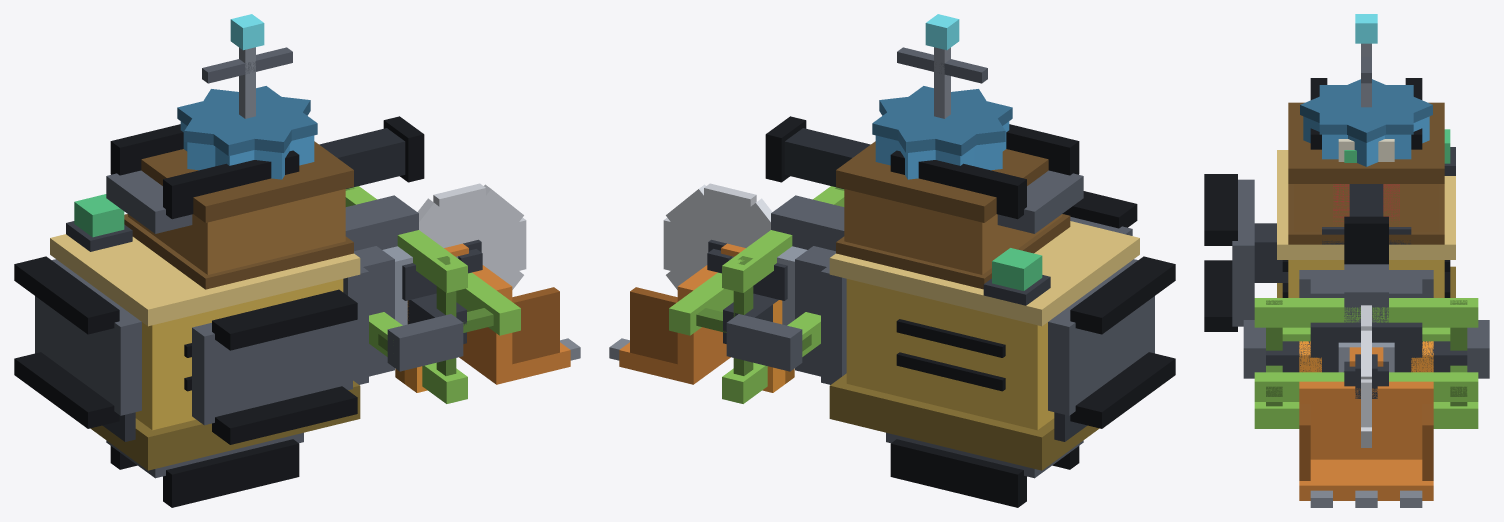
The model's file is worker.glb.
3 renders of one model, left to right at view 1: azimuth 30°, elevation 25°; view 2: azimuth 150°, elevation 25°; view 3: azimuth 270°, elevation 25°, orthographic. The views are drawn at different scales.
Parts seen in each view (by area): view 1: body.006, side.001, hold, sidex.001, map_drum, reaper_reel, above.001, scoop_bucket, saw_disc, below.001, aim_pitch_gun, grab (+3 smaller); view 2: body.006, hold, sidex.001, map_drum, reaper_reel, above.001, scoop_bucket, saw_disc, below.001, aim_pitch_gun, grab, reaper (+4 smaller); view 3: reaper_reel, scoop_bucket, hold, map_drum, side.001, body.006, grab, aim_pitch_gun, reaper, saw_disc, bore, above.001 (+6 smaller).
Part boxes in pixels (x1,y1,x2,y2): body.006: [50, 194, 368, 470]; side.001: [192, 289, 357, 444]; hold: [124, 141, 353, 289]; sidex.001: [14, 256, 141, 428]; map_drum: [177, 14, 317, 179]; reaper_reel: [345, 186, 520, 403]; above.001: [106, 124, 299, 233]; scoop_bucket: [459, 265, 580, 384]; saw_disc: [417, 183, 526, 289]; below.001: [106, 432, 303, 507]; aim_pitch_gun: [319, 116, 424, 188]; grab: [345, 195, 436, 300]; body.006: [821, 221, 1139, 470]; hold: [836, 141, 1070, 289]; sidex.001: [1048, 256, 1175, 428]; map_drum: [872, 14, 1012, 179]; reaper_reel: [669, 186, 844, 403]; above.001: [890, 124, 1083, 233]; scoop_bucket: [609, 265, 730, 384]; saw_disc: [663, 183, 772, 289]; below.001: [886, 432, 1083, 507]; aim_pitch_gun: [765, 116, 870, 188]; grab: [753, 195, 844, 300]; reaper: [726, 314, 802, 371]; reaper_reel: [1254, 298, 1478, 428]; scoop_bucket: [1299, 381, 1433, 507]; hold: [1288, 102, 1444, 244]; map_drum: [1300, 14, 1432, 166]; side.001: [1204, 174, 1288, 331]; body.006: [1277, 129, 1455, 297]; grab: [1310, 264, 1422, 357]; aim_pitch_gun: [1344, 184, 1388, 264]; reaper: [1243, 320, 1489, 378]; saw_disc: [1355, 305, 1377, 447]; bore: [1310, 279, 1422, 297]; above.001: [1310, 78, 1422, 149].
Size of the model in its own units: 1.47 by 1.23 by 0.7969.
